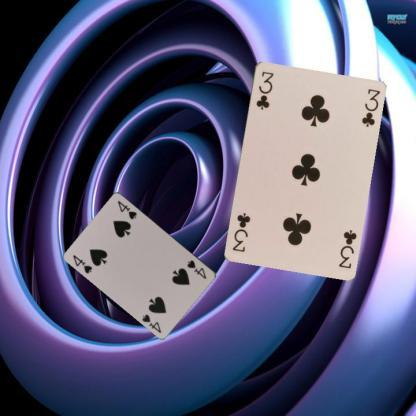3c: (336, 226, 358, 270), (253, 68, 275, 111)
4s: (185, 257, 208, 280), (70, 252, 93, 275)
